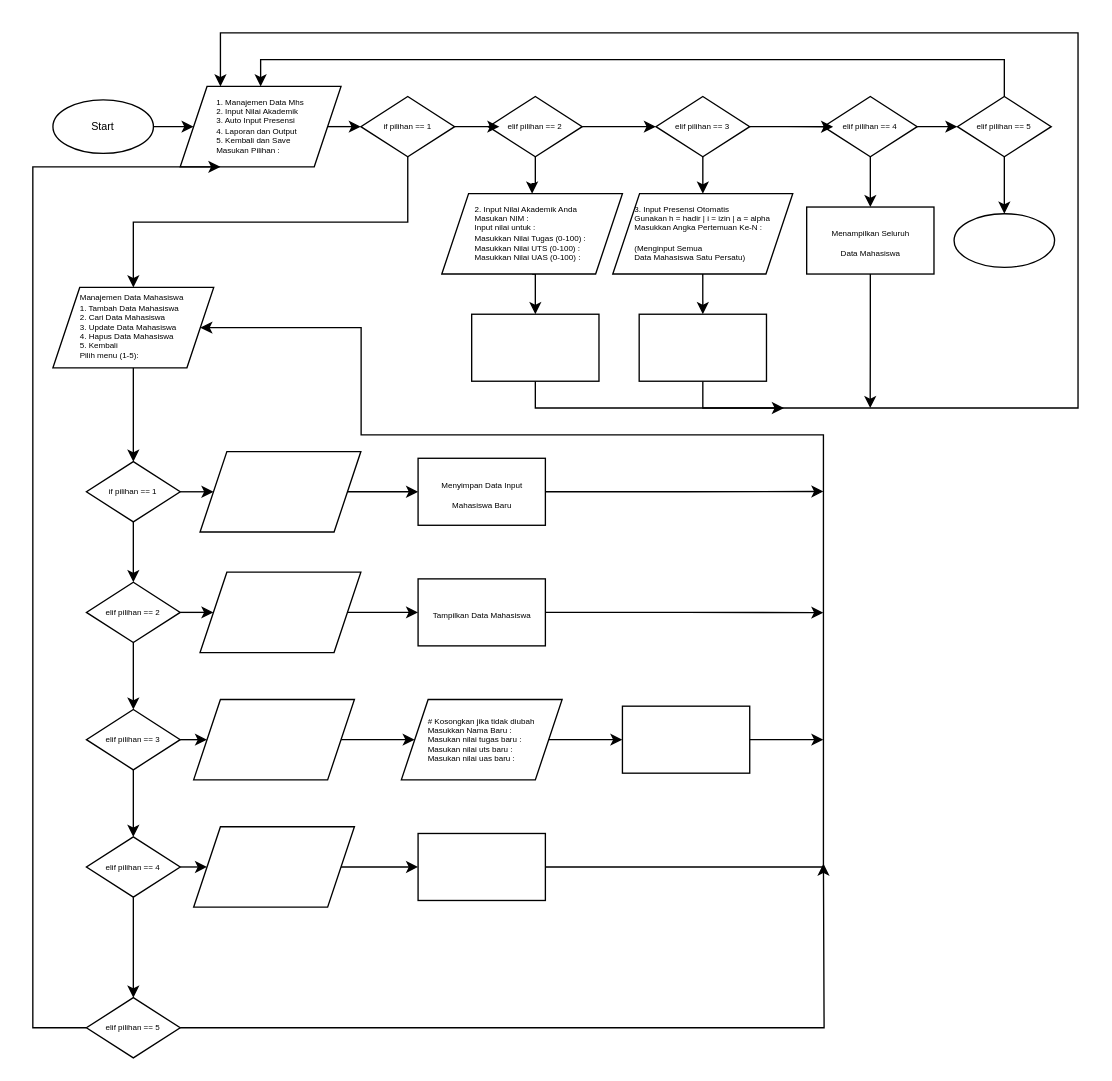
Some shapes in this 1112 by 1081 pixel diagram are drawn without their labels. The shapes that lost their labels are listed below. From the top down, each one's centre as x and y in pixels, then its label:
pixel 1004 239: End
pixel 534 347: Menyimpan Nilai Akademik yang berhasil diinput
pixel 702 347: Menyimpan status kehadiran yang berhasil diinput
pixel 280 491: Masukan NIM : Masukan Nama :
pixel 280 612: Masukan NIM Mahasiswa :
pixel 273 739: Masukkan NIM yg akan diupdate : (Menampilkan Data Lama)
pixel 685 739: Menyimpan Data Baru
pixel 273 866: Masukkan NIM yg akan dihapus : 3 Yakin ingin menghapus? (y/n) :
pixel 481 866: Menghapus Data Mahasiswa Dengan NIM yang diinput
